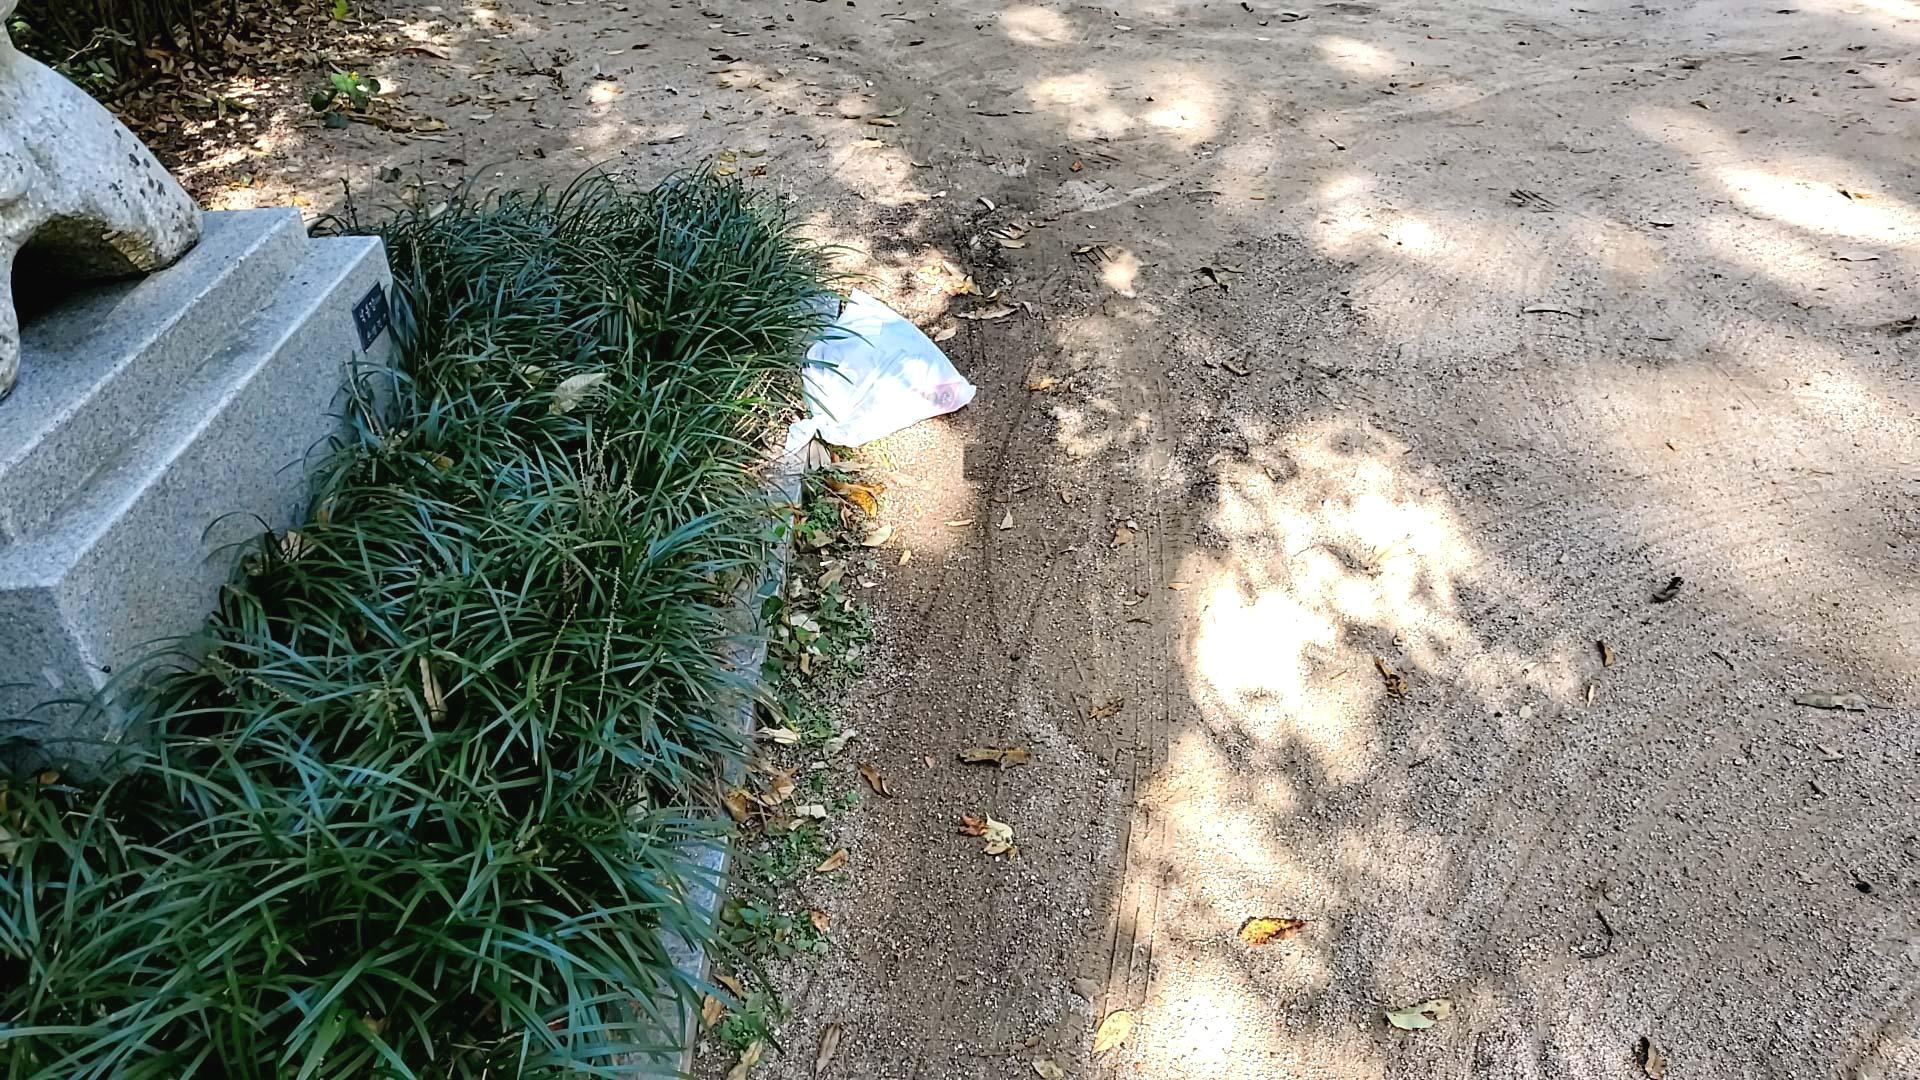white_bag: (777, 285, 981, 475)
